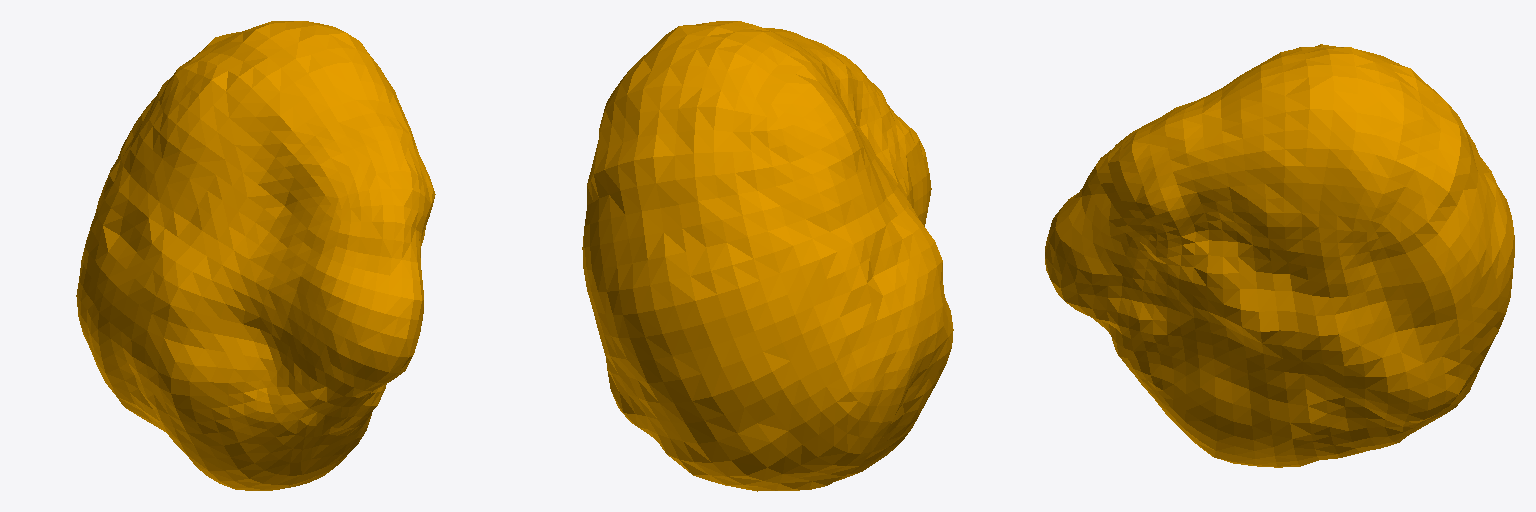
URDF robot description (rock):
<?xml version="1.0" ?>
<robot name="rock">
  <link name="rock">
    <inertial>
      <mass value="0.207"/>
      <origin rpy="0 0 0" xyz="0 0 0"/>
      <inertia ixx="0.000207" ixy="0" ixz="0" iyy="0.000207" iyz="0" izz="0.000207"/>
    </inertial>
    <collision name="rock_collision">
      <origin rpy="0 0 0" xyz="0 0 0"/>
      <geometry>
        <mesh filename="package://rocks/visual/125.dae" scale="1 1 1"/>
      </geometry>
    </collision>
    <visual name="rock_visual">
      <origin rpy="0 0 0" xyz="0 0 0"/>
      <geometry>
        <mesh filename="package://rocks/visual/125.dae" scale="1 1 1"/>
      </geometry>
    </visual>
  </link>
</robot>

--- What the picture shows (computed from the rendered views, not written in the file) ---
The picture shows the robot from 3 angles, left to right: view 1: azimuth 30°, elevation 25°; view 2: azimuth 150°, elevation 25°; view 3: azimuth 270°, elevation 25°; orthographic projection.
Model rock with 1 links and 0 joints (none), rooted at rock, posed all joints at 0.
Visible links, largest first — view 1: rock; view 2: rock; view 3: rock.
Boxes of the visible links, left/top/right/bottom form: rock: left=76, top=21, right=435, bottom=490; rock: left=582, top=21, right=953, bottom=491; rock: left=1045, top=44, right=1514, bottom=467.
Bounding box of the posed robot: 0.0582 × 0.083 × 0.0838 m (x, y, z).
1 mesh visuals loaded from 1 distinct referenced files (1 Collada DAE).